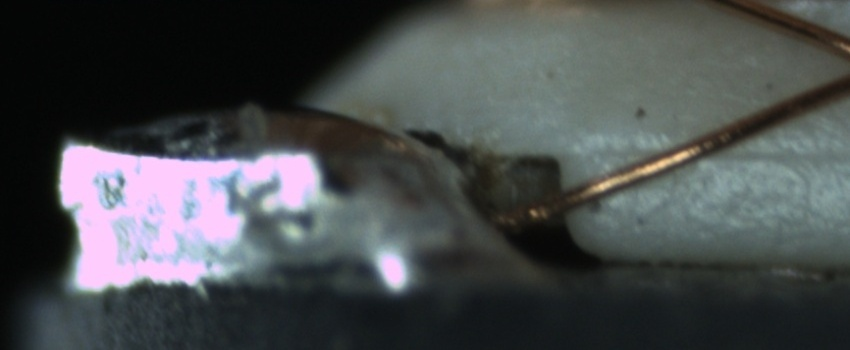DL: (615, 125, 844, 183)
